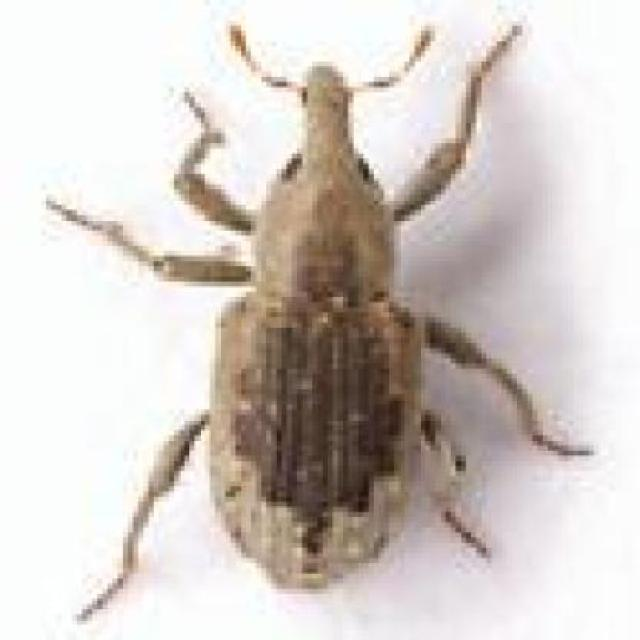rice-bug: (172, 49, 493, 596)
